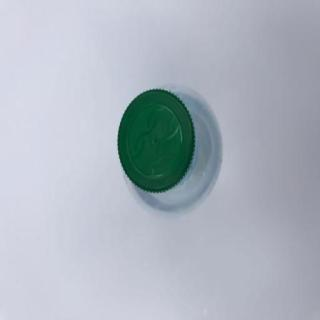Plastic-bottle: (112, 87, 228, 221)
